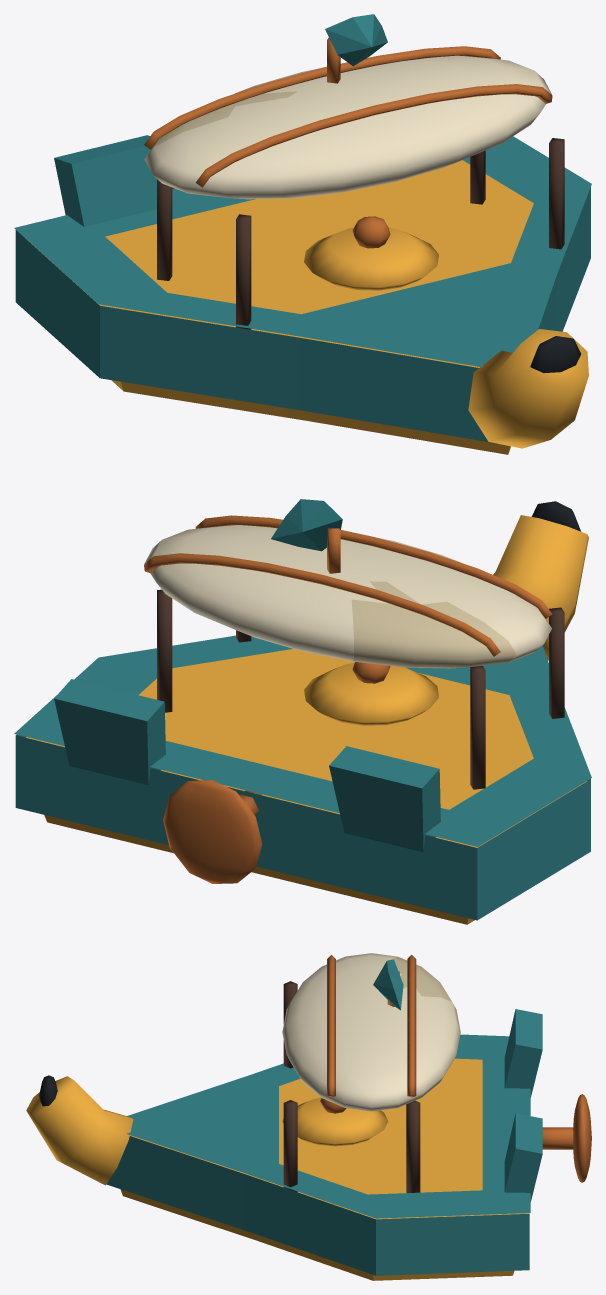
The model's file is copperskiff.glb.
3 views of the same model, one above another, from view 1: azimuth 30°, elevation 25°; view 2: azimuth 150°, elevation 25°; view 3: azimuth 270°, elevation 25° (orthographic). The views are drawn at different scales.
Visible parts, largest first — view 1: ME_20261020_copperskiff_team_coaming_wall, ME_20261020_copperskiff_canvas_lens_0, ME_20261020_copperskiff_copper_boat_belly, ME_20261020_copperskiff_team_top_coaming, ME_20261020_copperskiff_team_foredeck, ME_20261020_copperskiff_curved_bow_spout, ME_20261020_copperskiff_stern_board_-1, ME_20261020_copperskiff_kettle_lid, ME_20261020_copperskiff_copper_canvas_binding_0_0, ME_20261020_copperskiff_copper_canvas_binding_0_1, ME_20261020_copperskiff_team_leaf_pennant, ME_20261020_copperskiff_canvas_support_-1_0 (+5 smaller); view 2: ME_20261020_copperskiff_canvas_lens_0, ME_20261020_copperskiff_team_coaming_wall, ME_20261020_copperskiff_copper_boat_belly, ME_20261020_copperskiff_team_top_coaming, ME_20261020_copperskiff_stern_board_-1, ME_20261020_copperskiff_stern_board_1, ME_20261020_copperskiff_pusher_disc, ME_20261020_copperskiff_curved_bow_spout, ME_20261020_copperskiff_kettle_lid, ME_20261020_copperskiff_copper_canvas_binding_0_1, ME_20261020_copperskiff_copper_canvas_binding_0_0, ME_20261020_copperskiff_team_foredeck (+7 smaller); view 3: ME_20261020_copperskiff_team_coaming_wall, ME_20261020_copperskiff_canvas_lens_0, ME_20261020_copperskiff_copper_boat_belly, ME_20261020_copperskiff_team_top_coaming, ME_20261020_copperskiff_team_foredeck, ME_20261020_copperskiff_curved_bow_spout, ME_20261020_copperskiff_kettle_lid, ME_20261020_copperskiff_stern_board_-1, ME_20261020_copperskiff_stern_board_1, ME_20261020_copperskiff_copper_canvas_binding_0_1, ME_20261020_copperskiff_canvas_support_1_1, ME_20261020_copperskiff_pusher_disc (+6 smaller).
Boxes of the visible parts, x1,y1,x2,y2 form: ME_20261020_copperskiff_team_coaming_wall: [15, 187, 590, 443]; ME_20261020_copperskiff_canvas_lens_0: [144, 55, 551, 199]; ME_20261020_copperskiff_copper_boat_belly: [28, 160, 533, 454]; ME_20261020_copperskiff_team_top_coaming: [14, 136, 591, 367]; ME_20261020_copperskiff_team_foredeck: [270, 255, 544, 361]; ME_20261020_copperskiff_curved_bow_spout: [468, 329, 588, 448]; ME_20261020_copperskiff_stern_board_-1: [54, 135, 156, 236]; ME_20261020_copperskiff_kettle_lid: [304, 227, 438, 290]; ME_20261020_copperskiff_copper_canvas_binding_0_0: [195, 84, 552, 187]; ME_20261020_copperskiff_copper_canvas_binding_0_1: [144, 46, 500, 149]; ME_20261020_copperskiff_team_leaf_pennant: [325, 14, 387, 66]; ME_20261020_copperskiff_canvas_support_-1_0: [236, 214, 251, 329]; ME_20261020_copperskiff_canvas_lens_0: [144, 525, 551, 668]; ME_20261020_copperskiff_team_coaming_wall: [15, 734, 590, 920]; ME_20261020_copperskiff_copper_boat_belly: [26, 649, 586, 924]; ME_20261020_copperskiff_team_top_coaming: [14, 635, 591, 846]; ME_20261020_copperskiff_stern_board_-1: [329, 746, 440, 852]; ME_20261020_copperskiff_stern_board_1: [54, 679, 165, 785]; ME_20261020_copperskiff_pusher_disc: [163, 780, 262, 883]; ME_20261020_copperskiff_curved_bow_spout: [493, 515, 588, 660]; ME_20261020_copperskiff_kettle_lid: [304, 662, 438, 725]; ME_20261020_copperskiff_copper_canvas_binding_0_1: [144, 553, 500, 656]; ME_20261020_copperskiff_copper_canvas_binding_0_0: [195, 515, 552, 618]; ME_20261020_copperskiff_team_foredeck: [406, 653, 545, 703]; ME_20261020_copperskiff_team_coaming_wall: [106, 1136, 529, 1275]; ME_20261020_copperskiff_canvas_lens_0: [282, 953, 460, 1111]; ME_20261020_copperskiff_copper_boat_belly: [120, 1058, 529, 1280]; ME_20261020_copperskiff_team_top_coaming: [126, 1034, 530, 1218]; ME_20261020_copperskiff_team_foredeck: [131, 1071, 278, 1175]; ME_20261020_copperskiff_curved_bow_spout: [26, 1076, 133, 1185]; ME_20261020_copperskiff_kettle_lid: [282, 1097, 388, 1146]; ME_20261020_copperskiff_stern_board_-1: [504, 1009, 542, 1097]; ME_20261020_copperskiff_stern_board_1: [504, 1113, 542, 1201]; ME_20261020_copperskiff_copper_canvas_binding_0_1: [407, 955, 416, 1097]; ME_20261020_copperskiff_canvas_support_1_1: [406, 1100, 420, 1192]; ME_20261020_copperskiff_pusher_disc: [573, 1094, 591, 1182].
Size of the model in its own units: 1.59 by 1.04 by 2.07.
